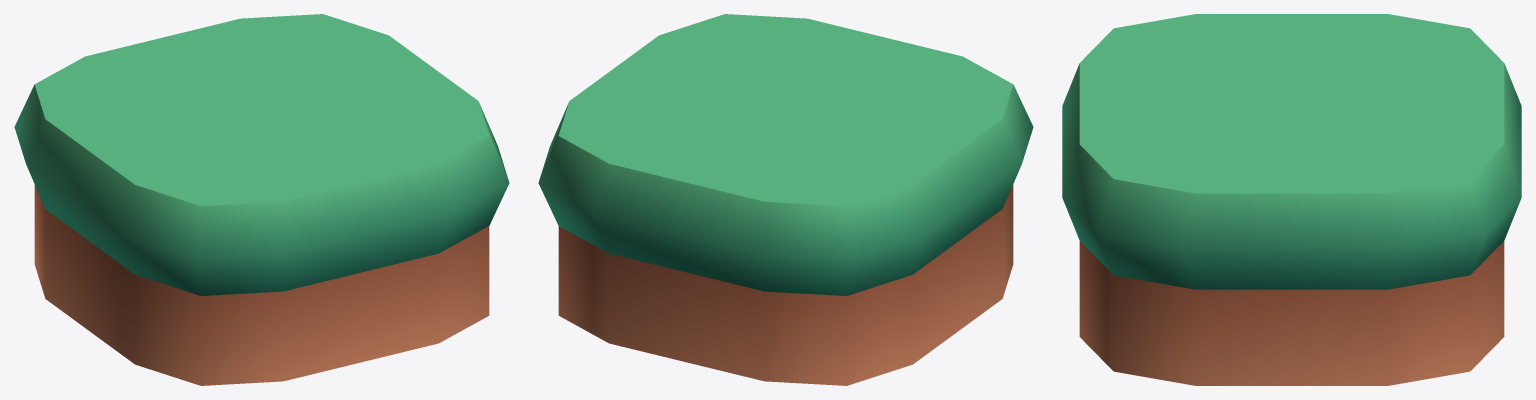
Rendered from block-grass-low.glb.
The picture shows the model from 3 angles, left to right: view 1: azimuth 30°, elevation 25°; view 2: azimuth 150°, elevation 25°; view 3: azimuth 270°, elevation 25°; orthographic projection. The views are drawn at different scales.
Parts seen in each view (by area): view 1: block-grass-low; view 2: block-grass-low; view 3: block-grass-low.
Part boxes in pixels (x1,y1,x2,y2): block-grass-low: (14,14,509,385); block-grass-low: (538,14,1033,385); block-grass-low: (1062,14,1521,385).
Size of the model in its own units: 1.08 by 0.5 by 1.08.
1 material, 1 textured.
